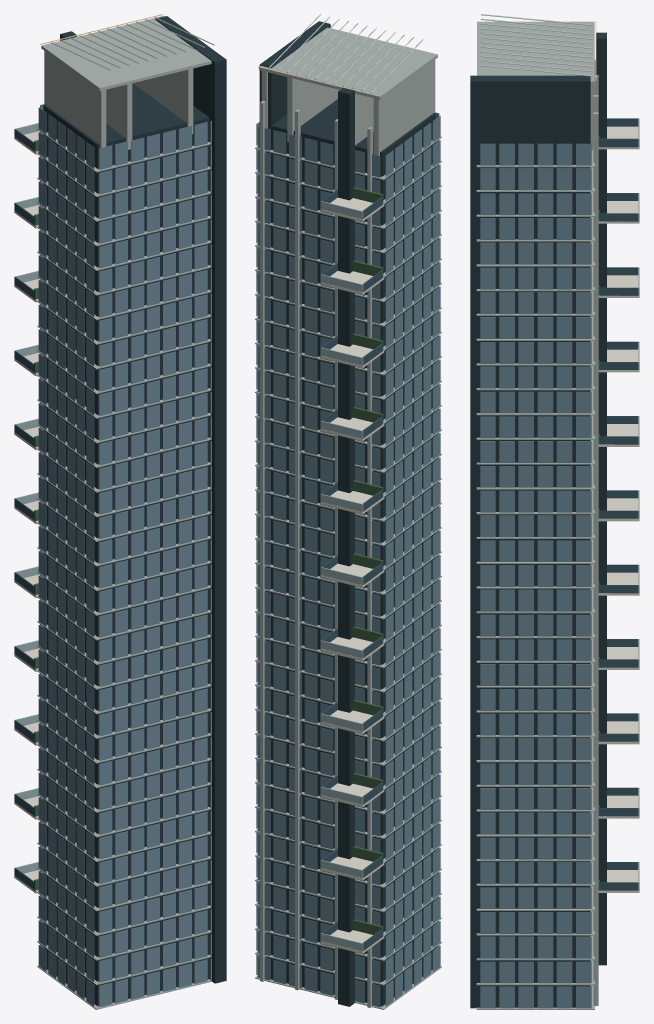
File: KOL_T1_ATMOSPHERE__Tower_1.fbx
3 renders of one model, left to right at view 1: azimuth 30°, elevation 25°; view 2: azimuth 150°, elevation 25°; view 3: azimuth 270°, elevation 25°, orthographic.
Parts seen in each view (by area): view 1: KOL_T1_ATMOSPHERE__Tower_1__KOL_T1_Graphite, KOL_T1_ATMOSPHERE__Tower_1__KOL_T1_GlassBlue, KOL_T1_ATMOSPHERE__Tower_1__KOL_T1_GlassBlue.001, KOL_T1_ATMOSPHERE__Tower_1__KOL_T1_Silver, KOL_T1_ATMOSPHERE__Tower_1__KOL_T1_WarmWindow, KOL_T1_ATMOSPHERE__Tower_1__KOL_T1_Glass, KOL_T1_ATMOSPHERE__Tower_1__KOL_T1_GlassLight, KOL_T1_ATMOSPHERE__Tower_1__KOL_T1_Pearl, KOL_T1_ATMOSPHERE__Tower_1__KOL_T1_Leaf; view 2: KOL_T1_ATMOSPHERE__Tower_1__KOL_T1_Graphite, KOL_T1_ATMOSPHERE__Tower_1__KOL_T1_GlassBlue, KOL_T1_ATMOSPHERE__Tower_1__KOL_T1_GlassBlue.001, KOL_T1_ATMOSPHERE__Tower_1__KOL_T1_Silver, KOL_T1_ATMOSPHERE__Tower_1__KOL_T1_WarmWindow, KOL_T1_ATMOSPHERE__Tower_1__KOL_T1_Pearl, KOL_T1_ATMOSPHERE__Tower_1__KOL_T1_GlassLight, KOL_T1_ATMOSPHERE__Tower_1__KOL_T1_Leaf, KOL_T1_ATMOSPHERE__Tower_1__KOL_T1_Glass; view 3: KOL_T1_ATMOSPHERE__Tower_1__KOL_T1_Graphite, KOL_T1_ATMOSPHERE__Tower_1__KOL_T1_GlassBlue, KOL_T1_ATMOSPHERE__Tower_1__KOL_T1_GlassBlue.001, KOL_T1_ATMOSPHERE__Tower_1__KOL_T1_Silver, KOL_T1_ATMOSPHERE__Tower_1__KOL_T1_Glass, KOL_T1_ATMOSPHERE__Tower_1__KOL_T1_Pearl, KOL_T1_ATMOSPHERE__Tower_1__KOL_T1_WarmWindow, KOL_T1_ATMOSPHERE__Tower_1__KOL_T1_GlassLight.
Boxes of the visible parts, <box> form: KOL_T1_ATMOSPHERE__Tower_1__KOL_T1_Graphite: <box>43,16,226,1006</box>; KOL_T1_ATMOSPHERE__Tower_1__KOL_T1_GlassBlue: <box>38,526,211,1007</box>; KOL_T1_ATMOSPHERE__Tower_1__KOL_T1_GlassBlue.001: <box>38,104,211,563</box>; KOL_T1_ATMOSPHERE__Tower_1__KOL_T1_Silver: <box>37,15,214,1009</box>; KOL_T1_ATMOSPHERE__Tower_1__KOL_T1_WarmWindow: <box>40,132,207,983</box>; KOL_T1_ATMOSPHERE__Tower_1__KOL_T1_Glass: <box>15,129,36,890</box>; KOL_T1_ATMOSPHERE__Tower_1__KOL_T1_GlassLight: <box>14,123,38,875</box>; KOL_T1_ATMOSPHERE__Tower_1__KOL_T1_Pearl: <box>14,131,39,893</box>; KOL_T1_ATMOSPHERE__Tower_1__KOL_T1_Leaf: <box>34,140,38,890</box>; KOL_T1_ATMOSPHERE__Tower_1__KOL_T1_Graphite: <box>259,21,435,1006</box>; KOL_T1_ATMOSPHERE__Tower_1__KOL_T1_GlassBlue: <box>256,537,440,1006</box>; KOL_T1_ATMOSPHERE__Tower_1__KOL_T1_GlassBlue.001: <box>256,112,440,567</box>; KOL_T1_ATMOSPHERE__Tower_1__KOL_T1_Silver: <box>255,14,441,1009</box>; KOL_T1_ATMOSPHERE__Tower_1__KOL_T1_WarmWindow: <box>273,142,440,1007</box>; KOL_T1_ATMOSPHERE__Tower_1__KOL_T1_Pearl: <box>320,197,384,953</box>; KOL_T1_ATMOSPHERE__Tower_1__KOL_T1_GlassLight: <box>320,201,363,951</box>; KOL_T1_ATMOSPHERE__Tower_1__KOL_T1_Leaf: <box>353,187,383,934</box>; KOL_T1_ATMOSPHERE__Tower_1__KOL_T1_Glass: <box>321,189,383,950</box>; KOL_T1_ATMOSPHERE__Tower_1__KOL_T1_Graphite: <box>470,32,606,1008</box>; KOL_T1_ATMOSPHERE__Tower_1__KOL_T1_GlassBlue: <box>480,561,595,1008</box>; KOL_T1_ATMOSPHERE__Tower_1__KOL_T1_GlassBlue.001: <box>480,140,595,561</box>; KOL_T1_ATMOSPHERE__Tower_1__KOL_T1_Silver: <box>476,14,598,1009</box>; KOL_T1_ATMOSPHERE__Tower_1__KOL_T1_Glass: <box>598,118,638,890</box>; KOL_T1_ATMOSPHERE__Tower_1__KOL_T1_Pearl: <box>598,126,639,892</box>; KOL_T1_ATMOSPHERE__Tower_1__KOL_T1_WarmWindow: <box>556,193,572,958</box>; KOL_T1_ATMOSPHERE__Tower_1__KOL_T1_GlassLight: <box>638,118,639,890</box>.
Bounding box in the file's own units: 55.8 × 379 × 62.
